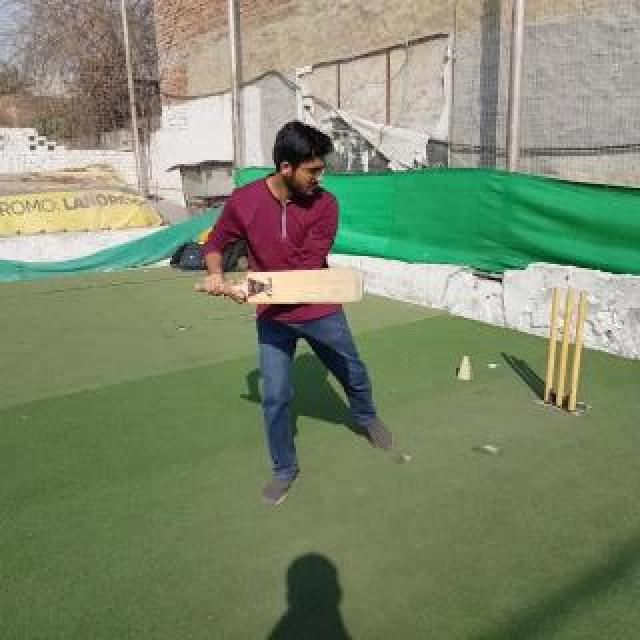bat: (194, 268, 364, 304)
